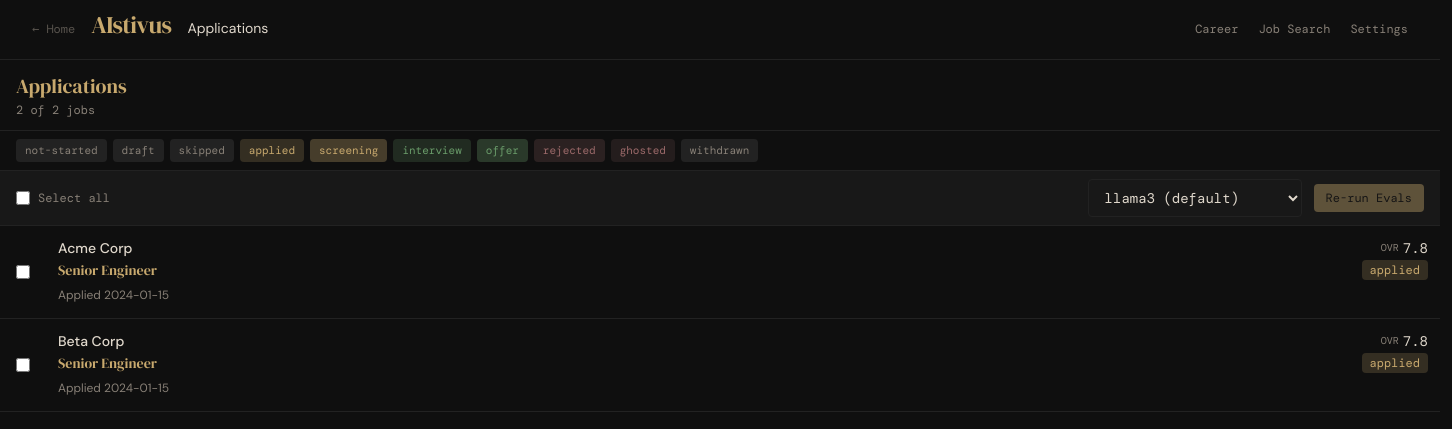
Applications page › select-all checkbox selects all visible rows
Expected: the text "Beta Corp" is shown, [58,332,124,350]
Click the checkbox labelled "Select all" at (23, 198), box [16,190,30,204]
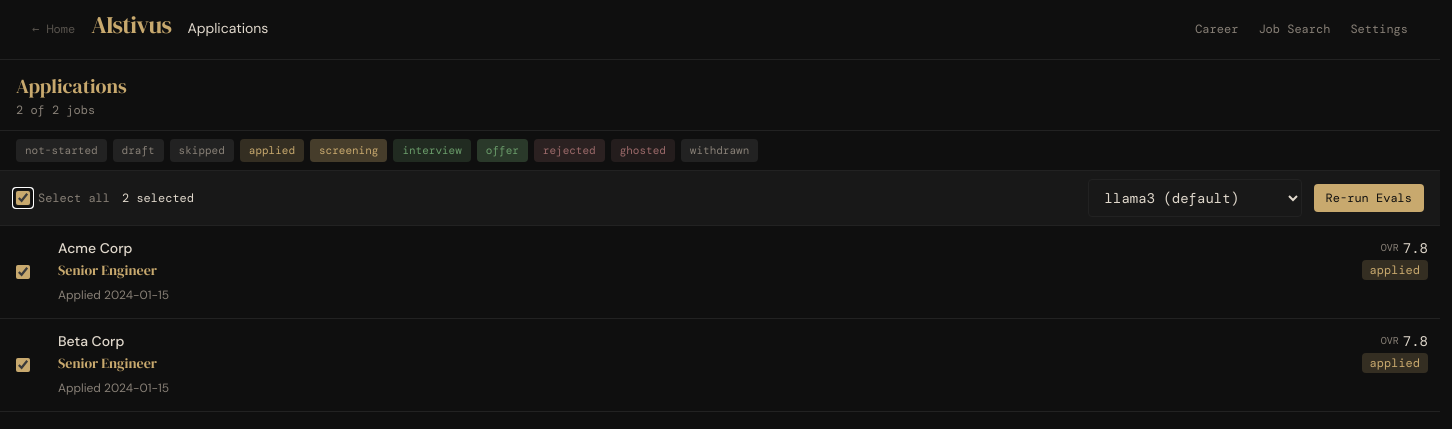
Expected: the text "2 selected" is shown, [122,190,194,206]
